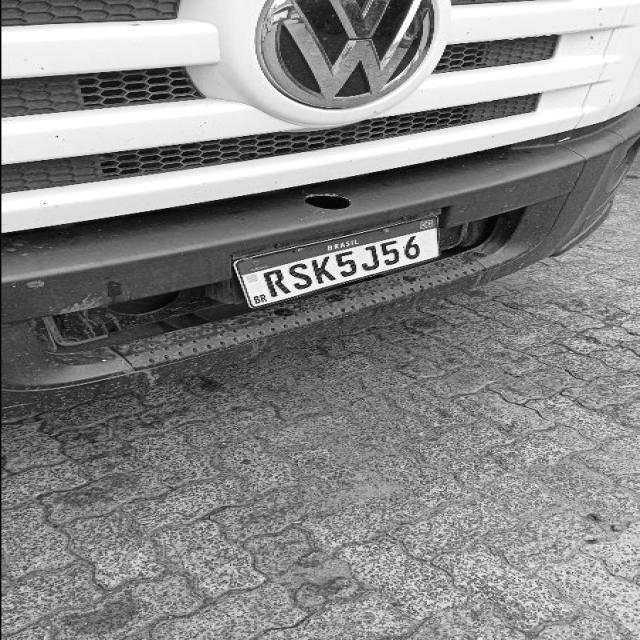placa_mercosul: (234, 218, 439, 307)
